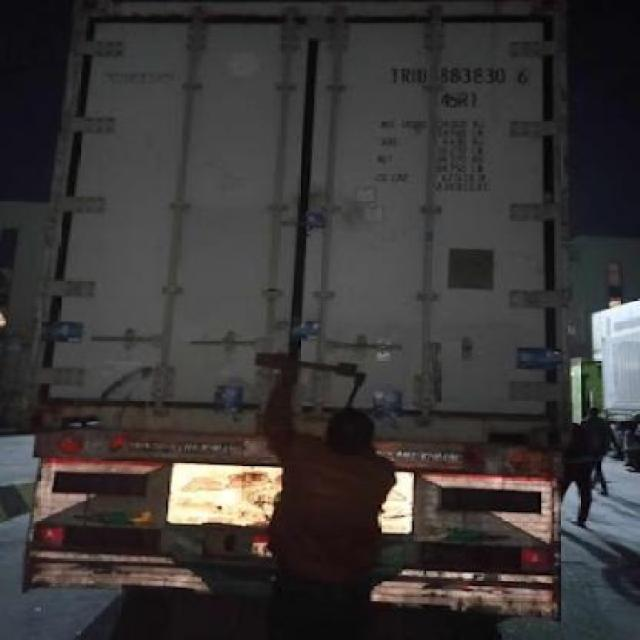ISO: (438, 88, 480, 110)
container_number: (390, 62, 523, 86)
